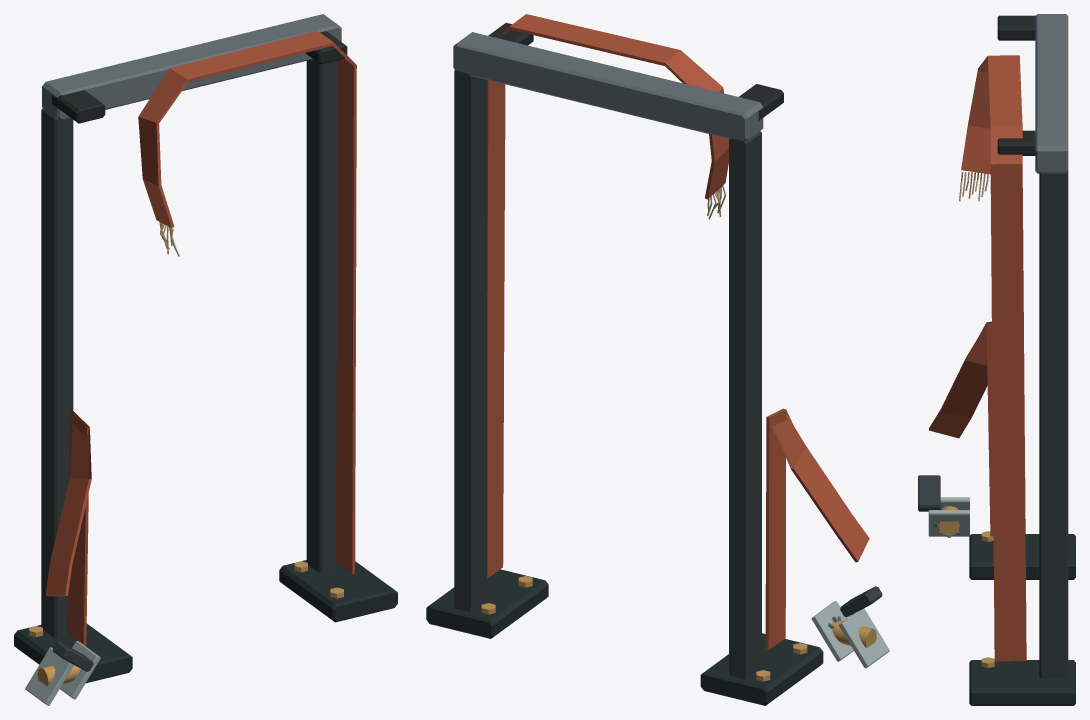
File: strap-broken.glb
3 views of the same model, side by side, from view 1: azimuth 30°, elevation 25°; view 2: azimuth 150°, elevation 25°; view 3: azimuth 270°, elevation 25° (orthographic). The views are drawn at different scales.
Visible parts, largest first — view 1: RB_strap_broken; view 2: RB_strap_broken; view 3: RB_strap_broken.
Part boxes in pixels (x1,y1,x2,y2): RB_strap_broken: (14, 14, 397, 705); RB_strap_broken: (426, 14, 889, 705); RB_strap_broken: (918, 14, 1075, 705).
Bounding box in the file's own units: 1.05 × 1.53 × 0.394.
